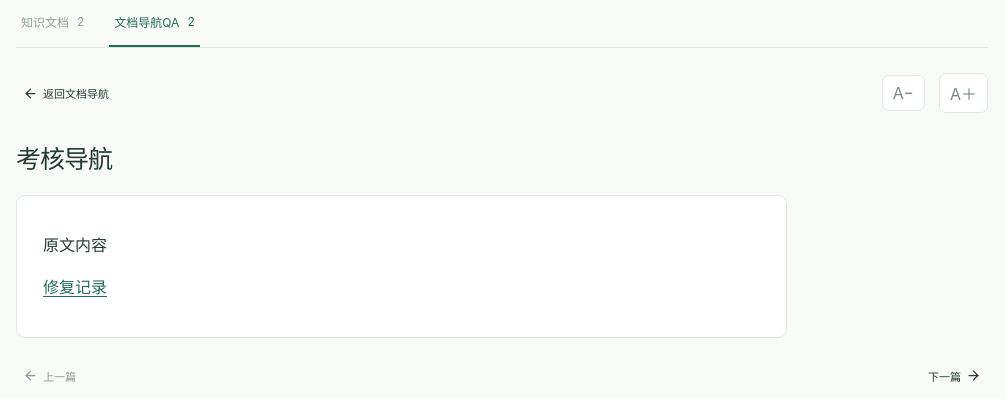
Test: opens review deep links and follows review documents without joining the learning sequence
The image size is (1005, 399).
Expected: the text "原文内容" is shown, [43, 235, 107, 255]
Click the link "修复记录" at (75, 287), box [43, 277, 107, 297]
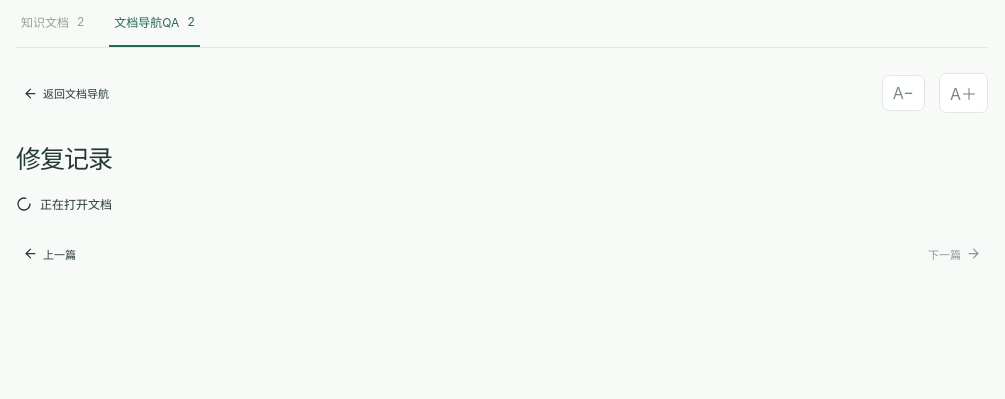
Result: the heading "修复记录" is shown at [16, 144, 112, 174]
Result: the button "下一篇" is disabled at [921, 240, 988, 266]
Click the button "返回文档导航" at (66, 93), box [16, 80, 116, 106]
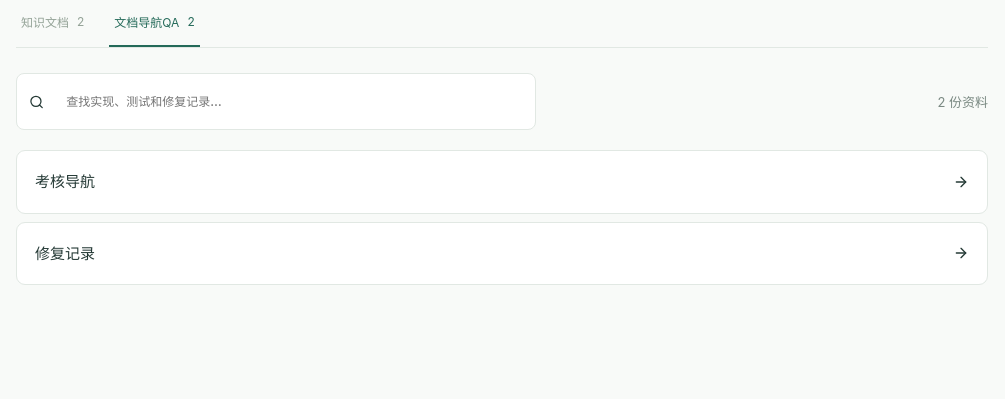
Result: the button "考核导航" is shown at [16, 150, 988, 214]
